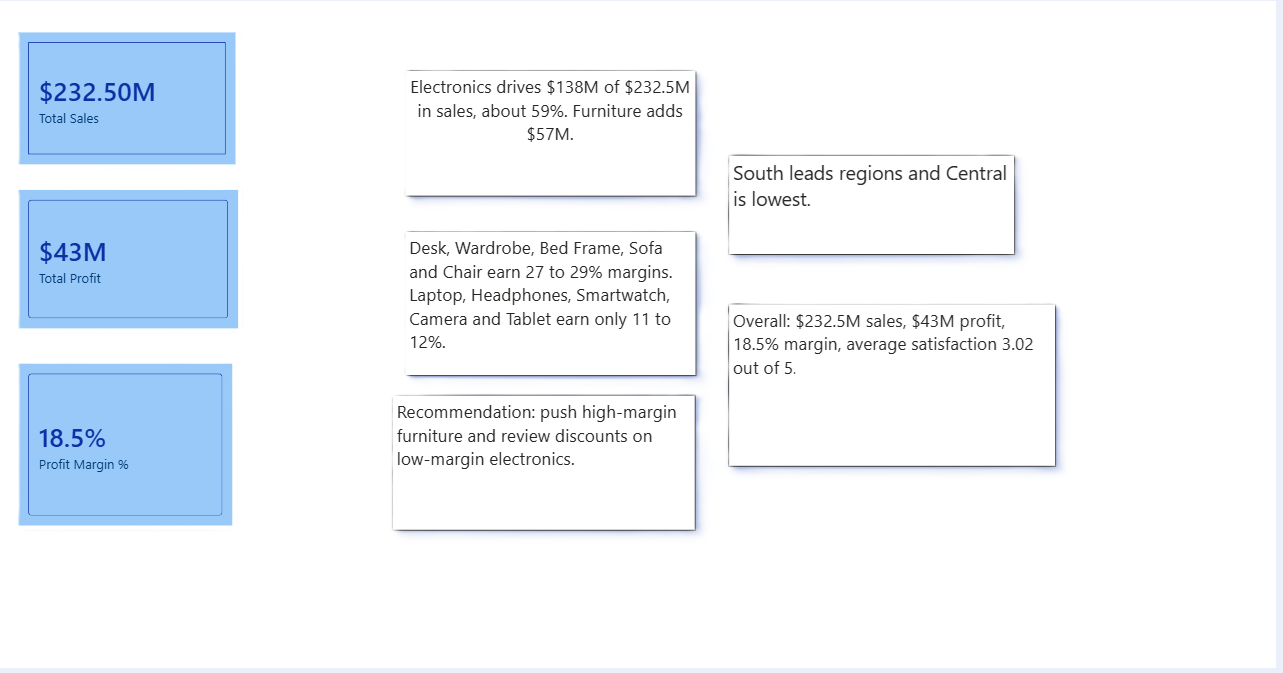

The dashboard page shown, as its layout file describes it:
{"tool":"powerbi","page":{"name":"Insights","canvas":[1920,1080],"ordinal":2},"visuals":[{"type":"textbox","box":[560.7,539.3,373.8,167.2],"z":2000},{"type":"textbox","box":[575.4,139.3,359,155.7],"z":4000},{"type":"textbox","box":[973.8,244.3,352.9,123.1],"z":5000},{"type":"textbox","box":[575.4,337.7,359,178.7],"z":6000},{"type":"textbox","box":[973.8,427.9,403.6,200.9],"z":7000},{"type":"cardVisual","fields":{"Data":["sales_clean.Total Sales"]},"box":[95.1,88.5,277,172.1],"z":9000},{"type":"cardVisual","fields":{"Data":["sales_clean.Total Profit"]},"box":[95.1,283.6,280.3,180.3],"z":10000},{"type":"cardVisual","fields":{"Data":["sales_clean.Profit Margin %"]},"box":[95.1,496.7,273.8,209.8],"z":11000}]}

Visuals, with their boxes on the page's 1920x1080 design canvas (x1, y1, x2, y2). These are canvas units, not pixel positions in the 1283x673 screenshot, which may show the page scaled, cropped or inside an application window:
textbox: left=561, top=539, right=934, bottom=706
textbox: left=575, top=139, right=934, bottom=295
textbox: left=974, top=244, right=1327, bottom=367
textbox: left=575, top=338, right=934, bottom=516
textbox: left=974, top=428, right=1377, bottom=629
cardVisual - sales_clean.Total Sales: left=95, top=88, right=372, bottom=261
cardVisual - sales_clean.Total Profit: left=95, top=284, right=375, bottom=464
cardVisual - sales_clean.Profit Margin %: left=95, top=497, right=369, bottom=706
